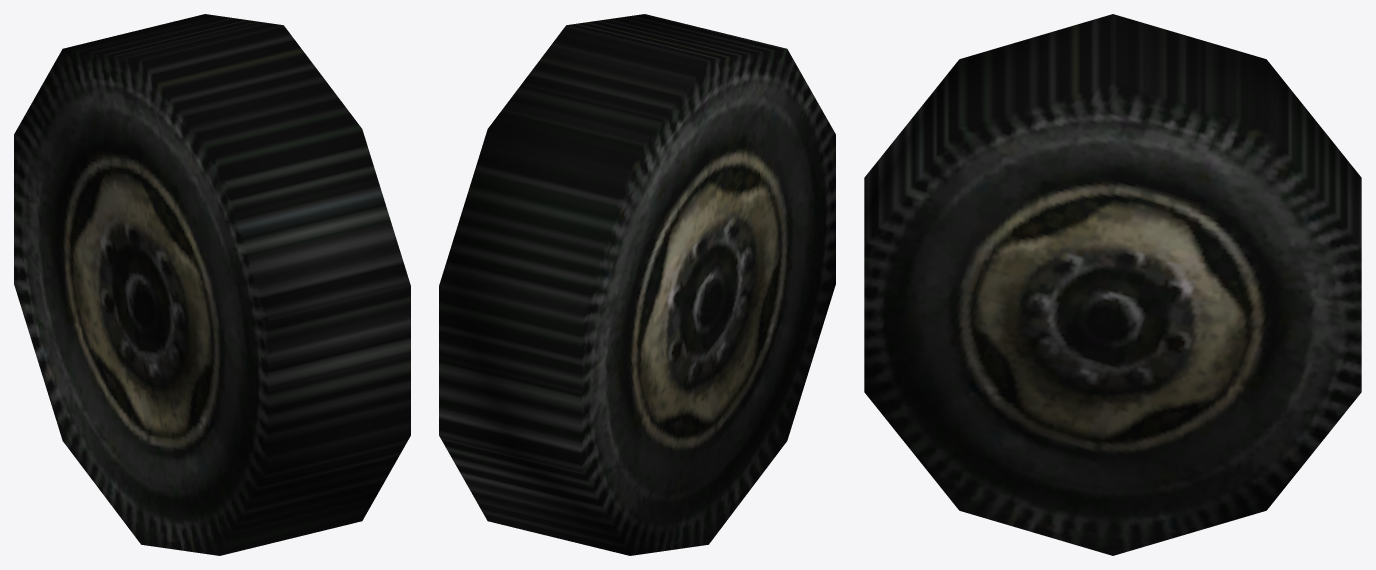
The model's file is Wheel_Off.glb.
3 renders of one model, left to right at view 1: azimuth 30°, elevation 25°; view 2: azimuth 150°, elevation 25°; view 3: azimuth 270°, elevation 25°, orthographic. The views are drawn at different scales.
Visible parts, largest first — view 1: WHEEL_OFF; view 2: WHEEL_OFF; view 3: WHEEL_OFF.
Boxes of the visible parts, x1,y1,x2,y2 form: WHEEL_OFF: (14, 14, 410, 555); WHEEL_OFF: (439, 14, 835, 555); WHEEL_OFF: (864, 14, 1361, 555).
Bounding box in the file's own units: 0.464 × 1.51 × 1.43.
Materials: 1 (1 with a texture image).
